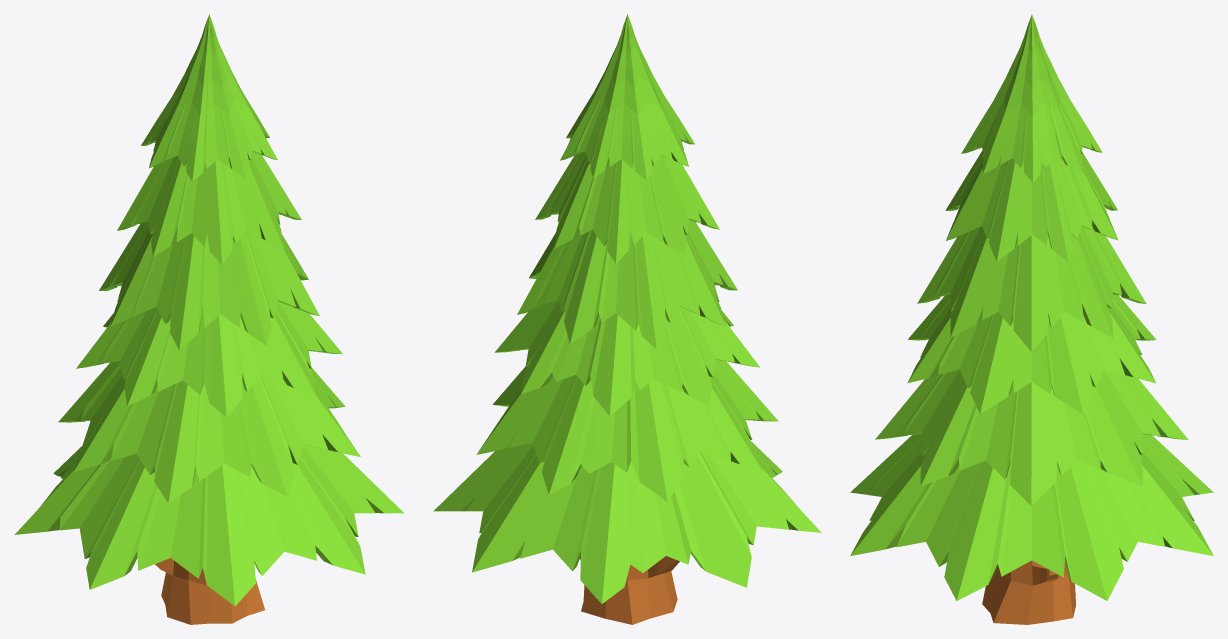
The model's file is LowPolyPine.fbx.
3 renders of one model, left to right at view 1: azimuth 30°, elevation 25°; view 2: azimuth 150°, elevation 25°; view 3: azimuth 270°, elevation 25°, orthographic.
Visible parts, largest first — view 1: Circle.004; view 2: Circle.004; view 3: Circle.004.
Boxes of the visible parts, bbox=[...] form: Circle.004: bbox=[14, 14, 404, 624]; Circle.004: bbox=[433, 14, 821, 624]; Circle.004: bbox=[850, 14, 1213, 624].
Size of the model in its own units: 257 by 461 by 257.
